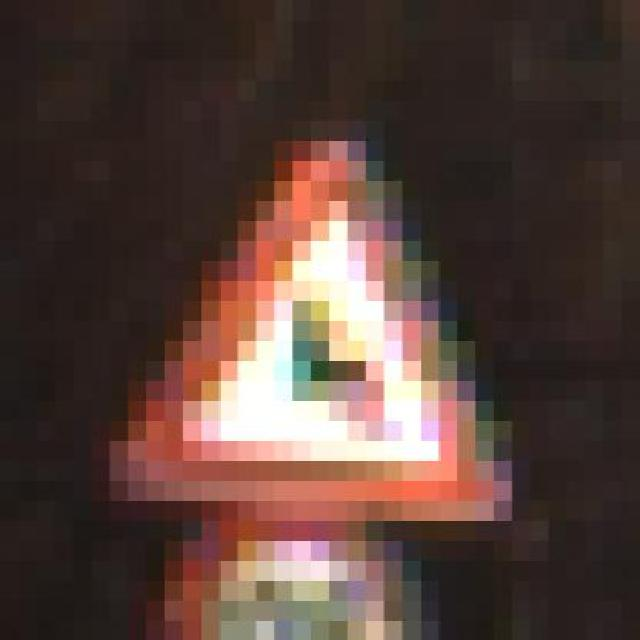Left Zig Zag Traffic: (73, 120, 530, 540)
